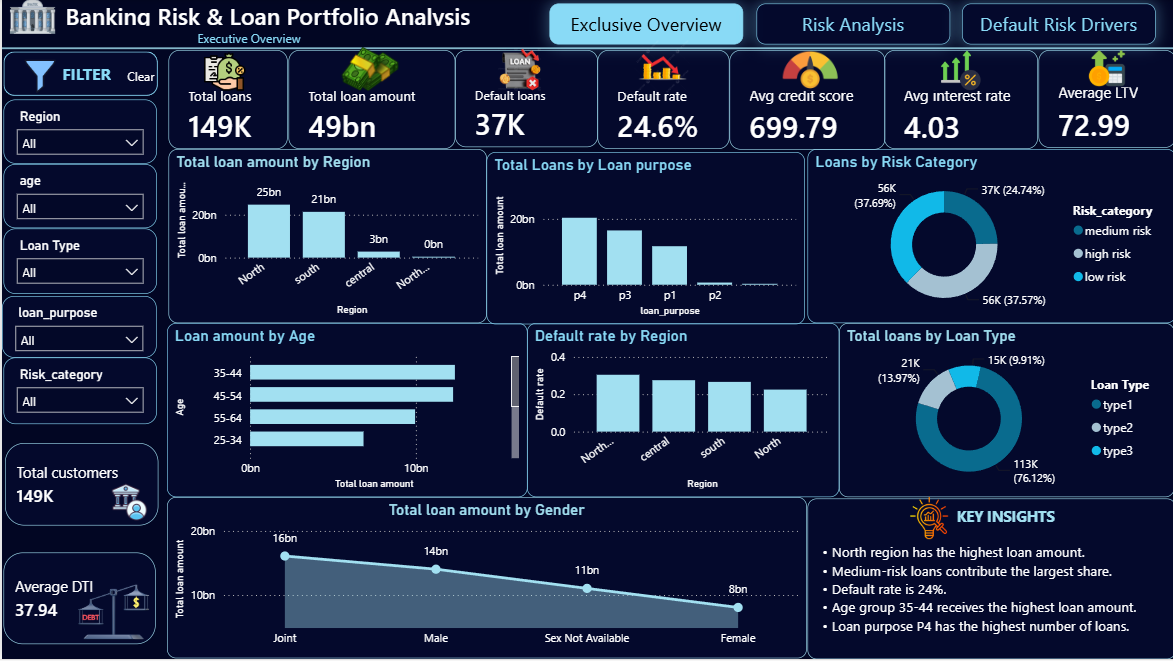

Layout of this report page (visuals, bound fields, positions):
{"tool":"powerbi","page":{"name":"Exclusive Overview","canvas":[1280,720],"ordinal":0},"visuals":[{"type":"cardVisual","fields":{"Data":["Calculations (2).dashboard_title"]},"box":[53.1,-0.2,509,52.5],"z":0,"group":"g3"},{"type":"slicer","fields":{"Values":["region.Region"]},"box":[1.4,110,167.1,70.1],"z":0,"group":"g2"},{"type":"clusteredColumnChart","title":"Total loan amount by Region","fields":{"Category":["Loan_Default.Region"],"Y":["Calculations (2).Total_loan_amnt"]},"box":[181.4,164.4,347.5,189.8],"z":0},{"type":"donutChart","title":"Loans by Risk Category","fields":{"Category":["Loan_Default.Risk_category"],"Y":["Calculations (2).Total_loans"]},"box":[878,164.4,401.7,189.8],"z":1000},{"type":"slicer","fields":{"Values":["Loan_Default.Risk_category"]},"box":[1.4,391.4,167.1,72.9],"z":1000,"group":"g2"},{"type":"slicer","fields":{"Values":["Loan_purpose.loan_purpose"]},"box":[0,324.3,168.6,67.1],"z":2000,"group":"g2"},{"type":"barChart","title":"Loan amount by Age","fields":{"Category":["Loan_Default.age"],"Y":["Calculations (2).Total_loan_amnt"]},"box":[179.7,354.2,393.2,189.8],"z":2000},{"type":"columnChart","title":"Total Loans by Loan purpose","fields":{"Category":["Loan_Default.loan_purpose"],"Y":["Calculations (2).Total_loan_amnt"]},"box":[528.8,166.1,347.5,188.1],"z":3000},{"type":"slicer","fields":{"Values":["Age.age"]},"box":[1.4,180.1,167.1,70.1],"z":3000,"group":"g2"},{"type":"slicer","fields":{"Values":["Loan_type.loan_type"]},"box":[1.4,250,167.1,71.4],"z":4000,"group":"g2"},{"type":"group","id":"g1","title":"Group 2","box":[495,21.4,69.3,89.1],"z":5000},{"type":"cardVisual","fields":{"Data":["Calculations (2).Default_loans"]},"box":[494,56,156,106],"z":6000},{"type":"cardVisual","fields":{"Data":["Calculations (2).Default_rate"]},"box":[650,56,144,108],"z":7000},{"type":"cardVisual","fields":{"Data":["Calculations (2).Avg_credit_score"]},"box":[793.3,55,170,108.3],"z":8000},{"type":"cardVisual","fields":{"Data":["Calculations (2).Avg_interest_rate"]},"box":[962,56,168,108],"z":9000},{"type":"cardVisual","fields":{"Data":["Calculations (2).Total_loans"]},"box":[182,56,130,108],"z":10000},{"type":"cardVisual","fields":{"Data":["Calculations (2).Total_loan_amnt"]},"box":[312,56,182,108],"z":11000},{"type":"group","id":"g2","title":"Group 3","box":[0,110,168.6,354.3],"z":12000},{"type":"cardVisual","fields":{"Data":["Calculations (2).Total_customers"]},"box":[3.2,483.5,167.1,90],"z":13000},{"type":"cardVisual","fields":{"Data":["Calculations (2).Average_LTV"]},"box":[1130,55,150,106.7],"z":14000},{"type":"cardVisual","fields":{"Data":["Calculations (2).Average_DTI"]},"box":[1.6,604.4,166,100],"z":15000},{"type":"clusteredColumnChart","fields":{"Category":["region.Region"],"Y":["Calculations (2).Default_rate"]},"box":[572.9,354.2,340.7,189.8],"z":16000},{"type":"donutChart","fields":{"Category":["Loan_Default.loan_type"],"Y":["Calculations (2).Total_loans"]},"box":[913.6,354.2,366.1,189.8],"z":17000},{"type":"lineChart","fields":{"Category":["Loan_Default.Gender"],"Y":["Calculations (2).Total_loan_amnt"]},"box":[179.7,544.1,698.3,176.3],"z":18000},{"type":"group","id":"g3","title":"Group 4","box":[53.1,-0.2,509,52.5],"z":19000},{"type":"shape","box":[0,50,1280,6],"z":20000},{"type":"shape","box":[1.7,56.7,168.3,48.3],"z":21000},{"type":"textbox","box":[878.3,545,401.7,175],"z":22000},{"type":"textbox","box":[194.1,27,149.5,28.6],"z":23000},{"type":"shape","box":[598.1,4.8,211.6,44.5],"z":24000},{"type":"shape","box":[822.3,4.8,211.6,44.5],"z":25000},{"type":"shape","box":[1046.6,4.8,211.6,44.5],"z":26000},{"type":"image","box":[181.3,52.5,122.5,52.5],"z":27000},{"type":"image","box":[343.6,52.5,116.1,47.7],"z":28000},{"type":"image","box":[529.7,54.1,68.4,46.1],"z":29000},{"type":"image","box":[661.7,41.4,119.3,65.2],"z":30000},{"type":"image","box":[809.6,46.1,143.2,62],"z":31000},{"type":"image","box":[1010,55.7,73.2,44.5],"z":32000},{"type":"image","box":[1151.6,55.7,106.6,39.8],"z":33000},{"type":"image","box":[0,0,66.8,38.2],"z":34000},{"type":"image","box":[15.9,52.5,50.9,63.6],"z":35000},{"type":"image","box":[108.2,507.4,62,82.7],"z":36000},{"type":"image","box":[62,625.1,119.3,79.5],"z":37000},{"type":"image","box":[981.4,544,58.9,46.1],"z":38000},{"type":"actionButton","box":[122.5,66.8,47.7,33.4],"z":38001}]}

Visuals, with their boxes in screenshot pixels (x1, y1, x2, y2), scaled from the page's 1280x720 canvas onto the 1173x661 screenshot:
cardVisual - Calculations (2).dashboard_title: (49, 0, 515, 48)
slicer - region.Region: (1, 101, 154, 165)
"Total loan amount by Region" clusteredColumnChart: (166, 151, 485, 325)
"Loans by Risk Category" donutChart: (805, 151, 1172, 325)
slicer - Loan_Default.Risk_category: (1, 359, 154, 426)
slicer - Loan_purpose.loan_purpose: (0, 298, 155, 359)
"Loan amount by Age" barChart: (165, 325, 525, 499)
"Total Loans by Loan purpose" columnChart: (485, 152, 803, 325)
slicer - Age.age: (1, 165, 154, 230)
slicer - Loan_type.loan_type: (1, 230, 154, 295)
"Group 2" group: (454, 20, 517, 101)
cardVisual - Calculations (2).Default_loans: (453, 51, 596, 149)
cardVisual - Calculations (2).Default_rate: (596, 51, 728, 151)
cardVisual - Calculations (2).Avg_credit_score: (727, 50, 883, 150)
cardVisual - Calculations (2).Avg_interest_rate: (882, 51, 1036, 151)
cardVisual - Calculations (2).Total_loans: (167, 51, 286, 151)
cardVisual - Calculations (2).Total_loan_amnt: (286, 51, 453, 151)
"Group 3" group: (0, 101, 155, 426)
cardVisual - Calculations (2).Total_customers: (3, 444, 156, 527)
cardVisual - Calculations (2).Average_LTV: (1036, 50, 1172, 148)
cardVisual - Calculations (2).Average_DTI: (1, 555, 154, 647)
clusteredColumnChart - region.Region x Calculations (2).Default_rate: (525, 325, 837, 499)
donutChart - Loan_Default.loan_type x Calculations (2).Total_loans: (837, 325, 1172, 499)
lineChart - Loan_Default.Gender x Calculations (2).Total_loan_amnt: (165, 500, 805, 660)
"Group 4" group: (49, 0, 515, 48)
shape: (0, 46, 1172, 51)
shape: (2, 52, 156, 96)
textbox: (805, 500, 1172, 660)
textbox: (178, 25, 315, 51)
shape: (548, 4, 742, 45)
shape: (754, 4, 947, 45)
shape: (959, 4, 1153, 45)
image: (166, 48, 278, 96)
image: (315, 48, 421, 92)
image: (485, 50, 548, 92)
image: (606, 38, 716, 98)
image: (742, 42, 873, 99)
image: (926, 51, 993, 92)
image: (1055, 51, 1153, 88)
image: (0, 0, 61, 35)
image: (15, 48, 61, 107)
image: (99, 466, 156, 542)
image: (57, 574, 166, 647)
image: (899, 499, 953, 542)
actionButton: (112, 61, 156, 92)
